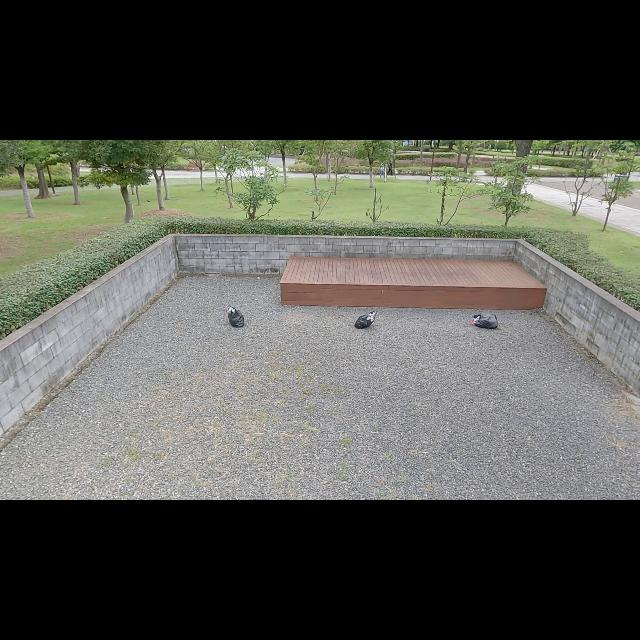trash: (470, 312, 502, 332), (225, 305, 248, 331), (354, 308, 378, 330)
